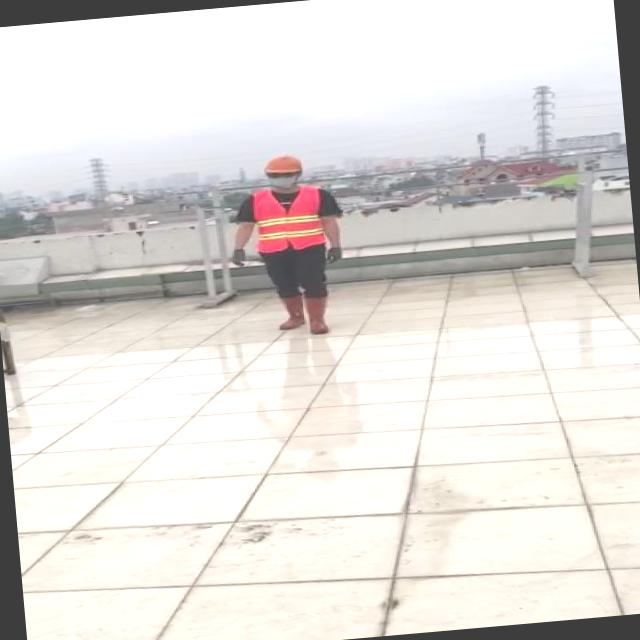boots: (300, 292, 335, 336), (273, 294, 306, 332)
gloves: (210, 232, 256, 284), (320, 236, 362, 273)
helmet: (262, 152, 304, 175)
vest: (248, 186, 326, 254)
